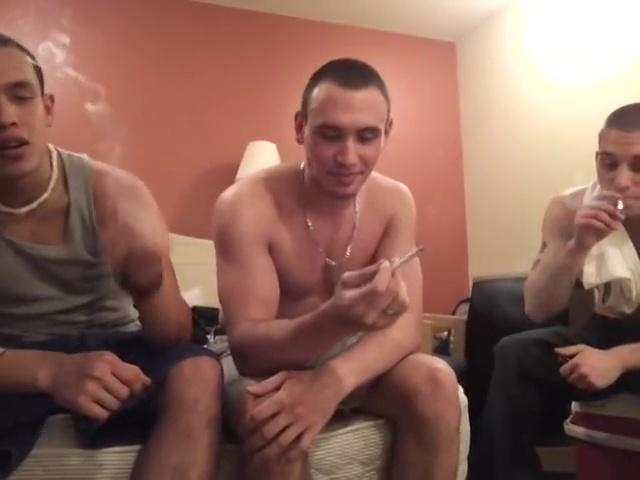cigarette: (387, 245, 428, 276), (613, 194, 627, 213)
